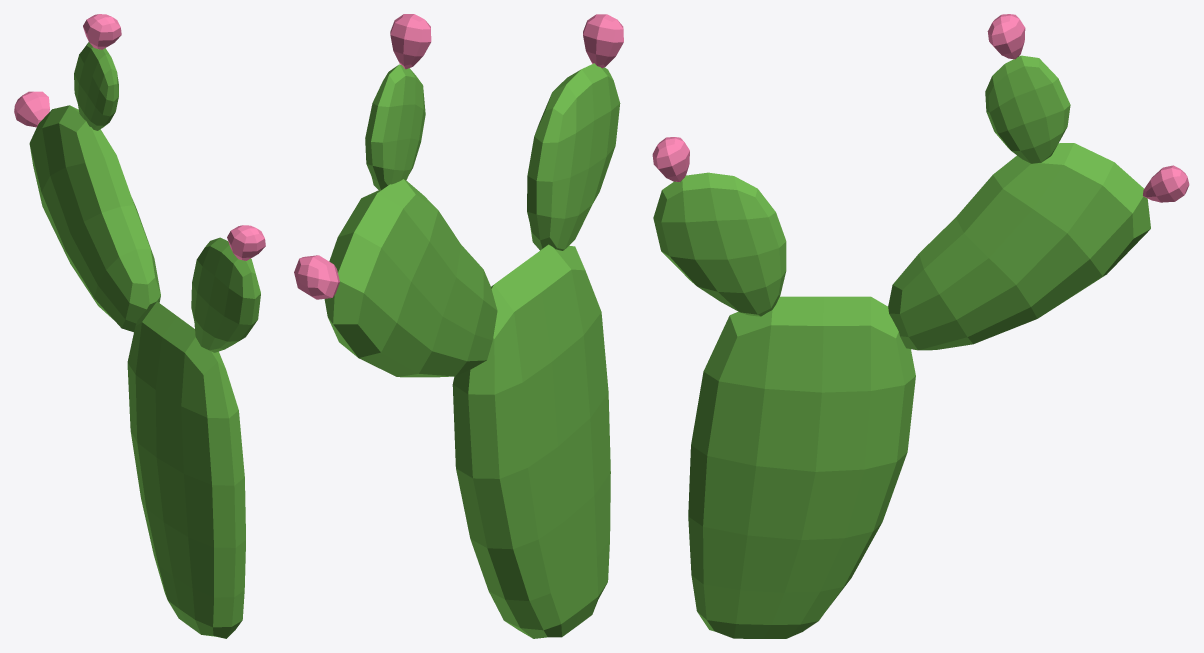
Rendered from nature-cactusflowers-5.glb.
The picture shows the model from 3 angles, left to right: view 1: azimuth 30°, elevation 25°; view 2: azimuth 150°, elevation 25°; view 3: azimuth 270°, elevation 25°; orthographic projection. The views are drawn at different scales.
Visible parts, largest first — view 1: CactusFlowers_5; view 2: CactusFlowers_5; view 3: CactusFlowers_5.
Part boxes in pixels (box(x1,y1,x2,y2)): CactusFlowers_5: box(14, 14, 265, 638); CactusFlowers_5: box(294, 14, 623, 638); CactusFlowers_5: box(652, 14, 1189, 638).
Bounding box in the file's own units: 11.17 × 93.82 × 73.4.
